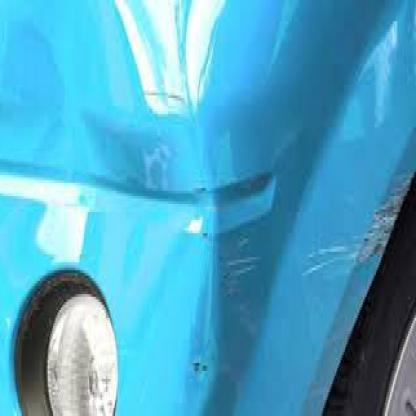dent: (171, 127, 268, 363)
